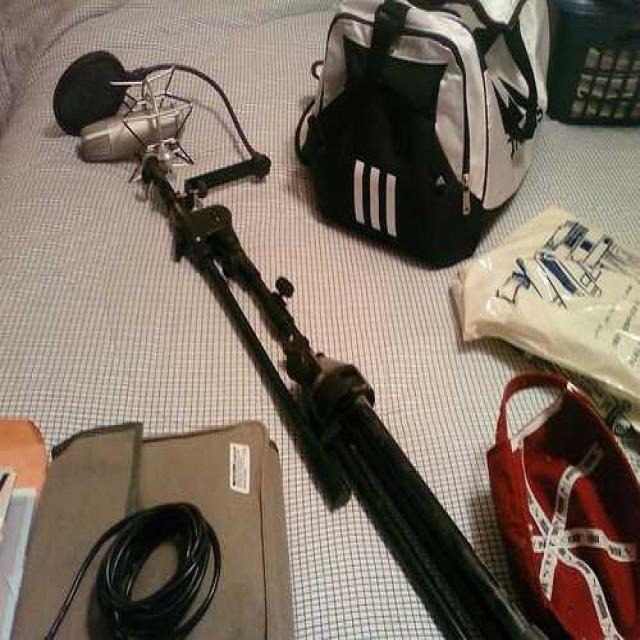microphone: (52, 49, 196, 162)
